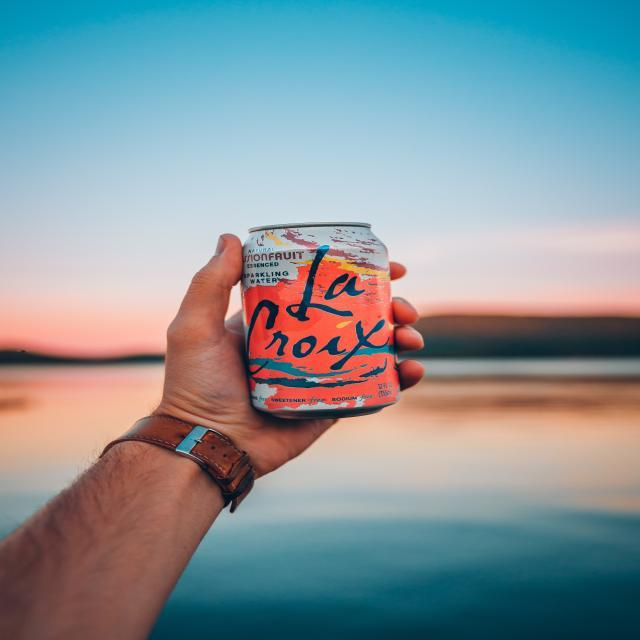can: (140, 162, 498, 460)
